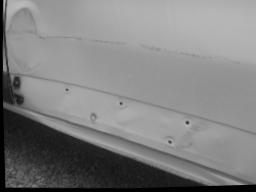Door: (0, 0, 256, 158)
